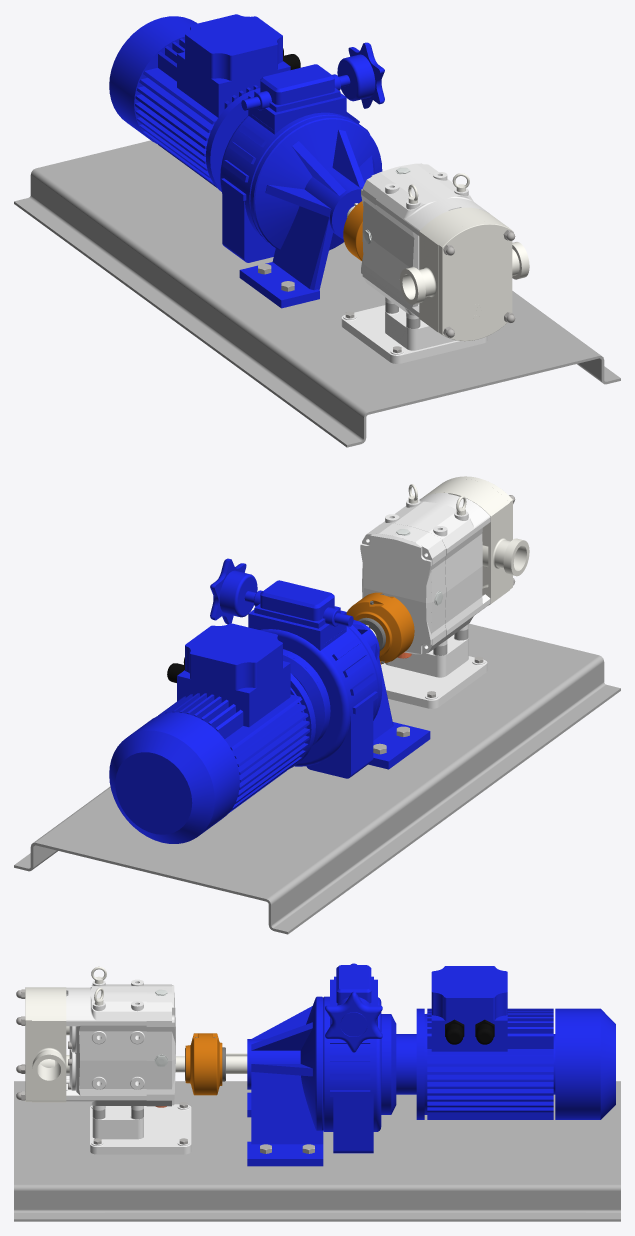
The model's file is P-1201_pump_prelube.glb.
The picture shows the model from 3 angles, top to bottom: view 1: azimuth 30°, elevation 25°; view 2: azimuth 150°, elevation 25°; view 3: azimuth 270°, elevation 25°; orthographic projection. The views are drawn at different scales.
Visible parts, largest first — view 1: Solid2 (×5), Solid3, Solid1 (×3); view 2: Solid2 (×4), Solid1 (×3), Solid3; view 3: Solid2 (×5), Solid3, Solid1 (×3).
Boxes of the visible parts, x1=… form: Solid2 (×5): x1=14, y1=14, x2=620, y2=447; Solid3: x1=220, y1=42, x2=384, y2=308; Solid1 (×3): x1=341, y1=163, x2=489, y2=363; Solid2 (×4): x1=14, y1=479, x2=620, y2=934; Solid1 (×3): x1=360, y1=493, x2=490, y2=708; Solid3: x1=210, y1=558, x2=430, y2=778; Solid2 (×5): x1=14, y1=966, x2=620, y2=1221; Solid3: x1=226, y1=963, x2=388, y2=1166; Solid1 (×3): x1=66, y1=979, x2=191, y2=1154.
Size of the model in its own units: 0.57 by 0.4335 by 1.2.
